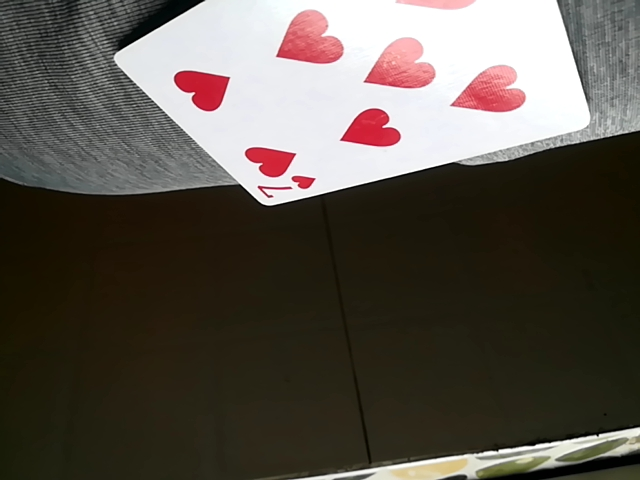hx 7: (110, 0, 593, 204)
